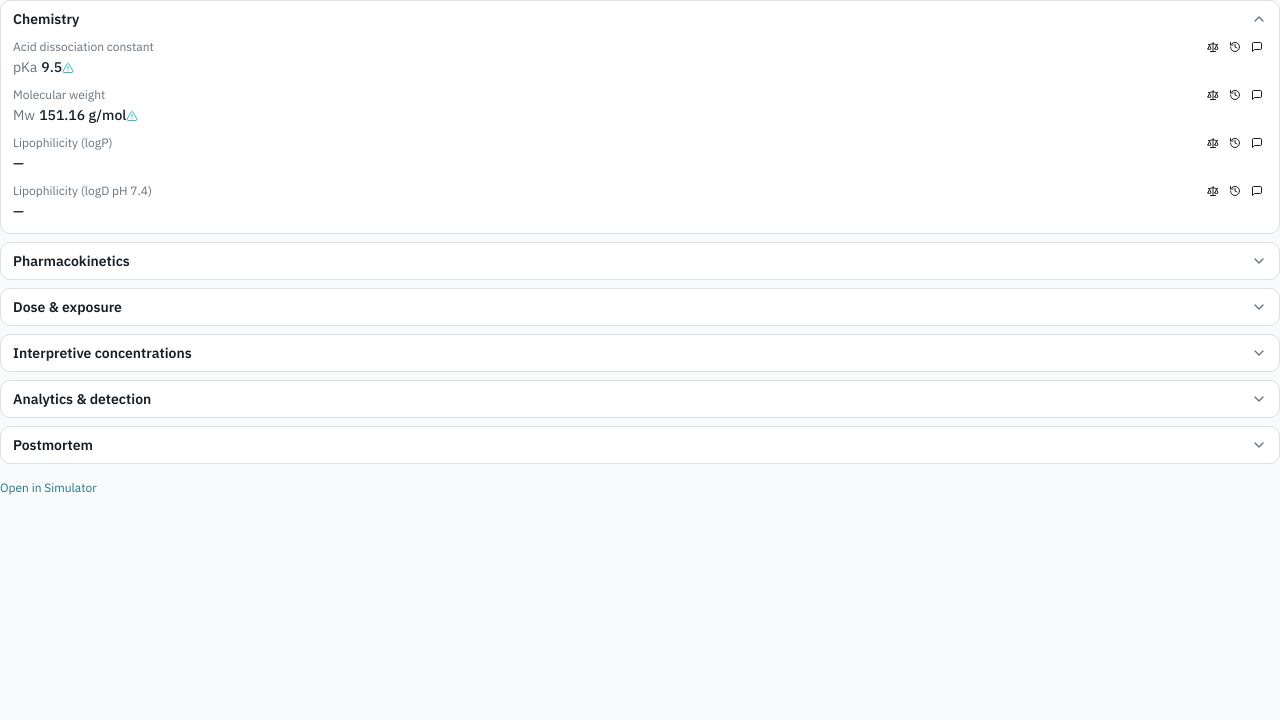
it: DrugMonographSidebar › keeps category boxes collapsed for anonymous visitors
Expected: the text "volume of distribution" is not shown
Click the button "Pharmacokinetics" at (71, 261), box [1,243,1279,279]
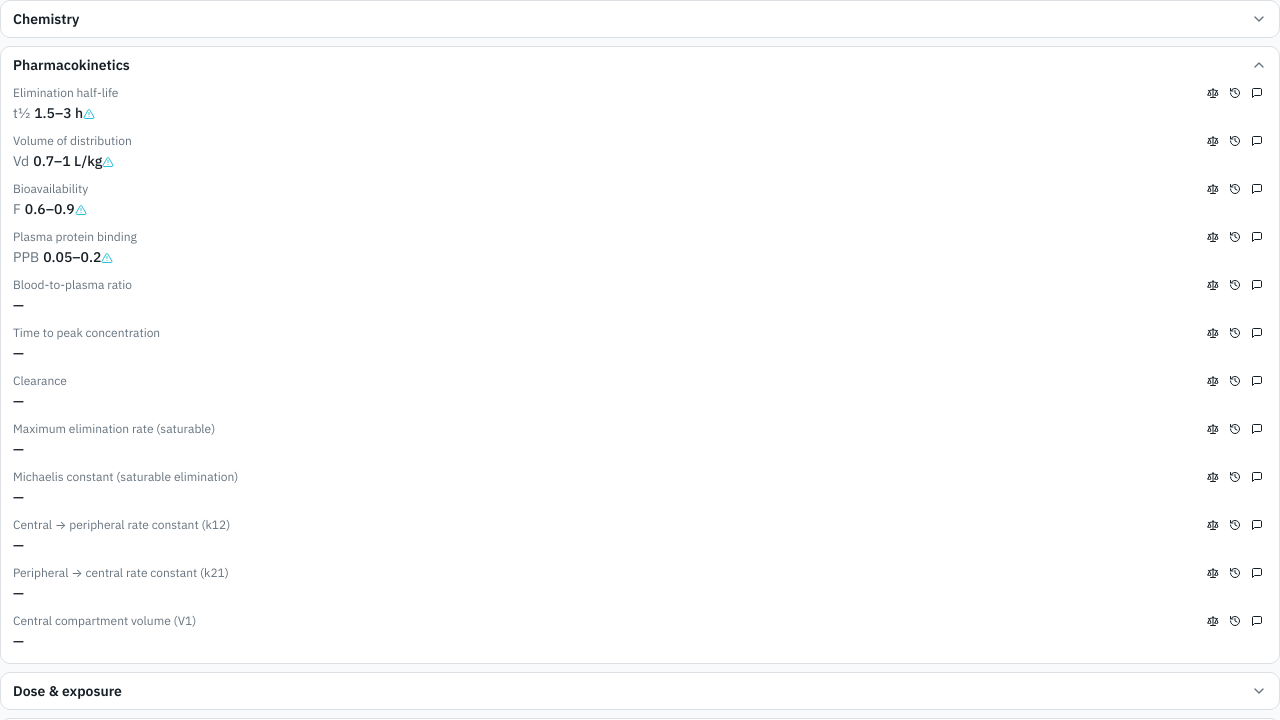
Expected: the text "Volume of distribution" is shown, [13,133,132,149]
